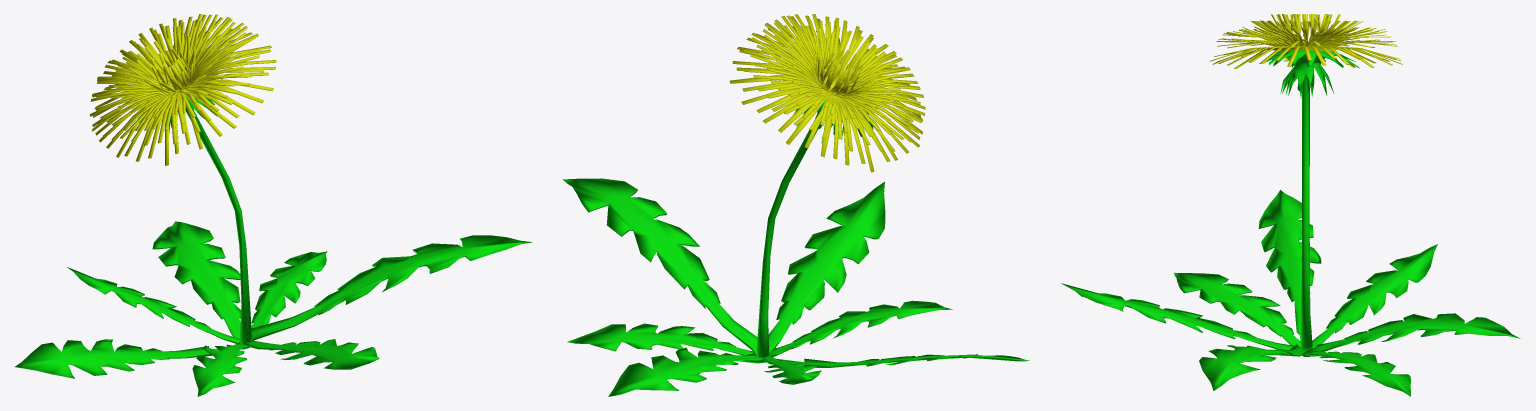
Rendered from Dandelion_LP_2.fbx.
3 renders of one model, left to right at view 1: azimuth 30°, elevation 25°; view 2: azimuth 150°, elevation 25°; view 3: azimuth 270°, elevation 25°, orthographic. The views are drawn at different scales.
Visible parts, largest first — view 1: Dandelio_LP_2.001; view 2: Dandelio_LP_2.001; view 3: Dandelio_LP_2.001.
Part boxes in pixels (x1,y1,x2,y2): Dandelio_LP_2.001: (15,14,532,396); Dandelio_LP_2.001: (562,14,1029,396); Dandelio_LP_2.001: (1061,14,1520,396).
Size of the model in its own units: 314 by 203 by 264.
